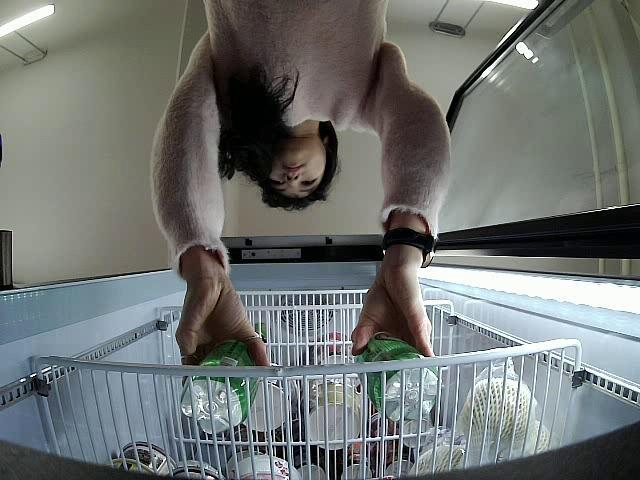18_trevi: (347, 324, 438, 421), (179, 339, 260, 434)
